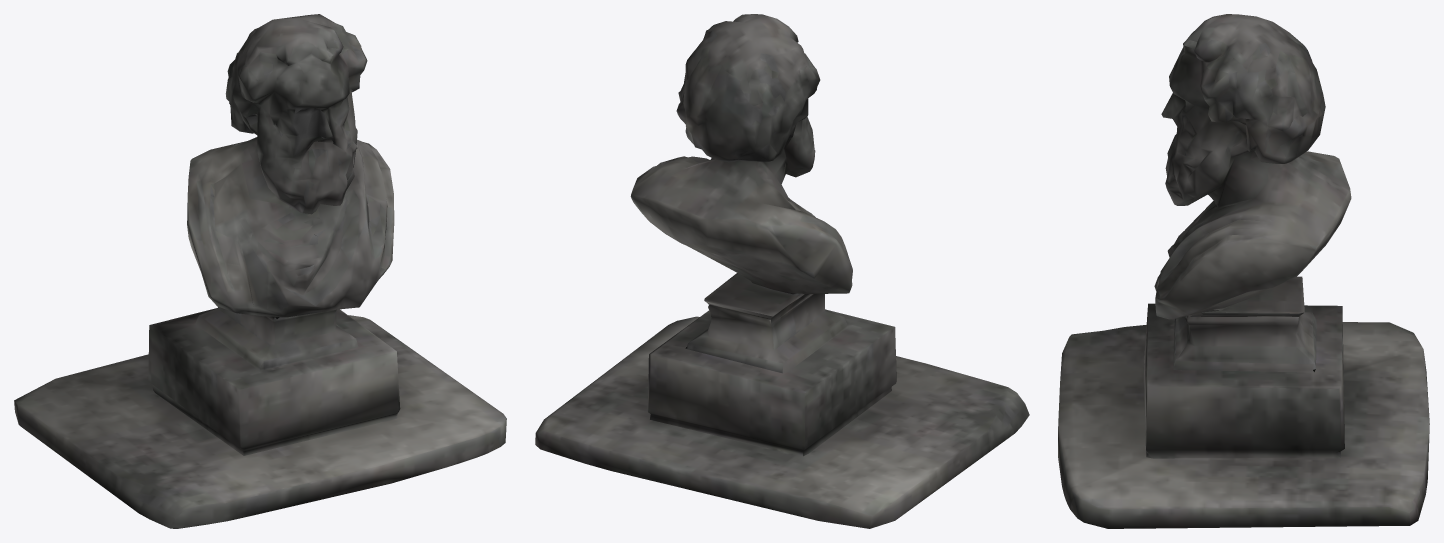
The model's file is old-granite-bust-v001.glb.
The picture shows the model from 3 angles, left to right: view 1: azimuth 30°, elevation 25°; view 2: azimuth 150°, elevation 25°; view 3: azimuth 270°, elevation 25°; orthographic projection. The views are drawn at different scales.
Visible parts, largest first — view 1: old-granite-bust; view 2: old-granite-bust; view 3: old-granite-bust.
Boxes of the visible parts, x1,y1,x2,y2 form: old-granite-bust: (14,14,506,528); old-granite-bust: (535,14,1029,528); old-granite-bust: (1058,14,1429,528).
Bounding box in the file's own units: 0.65 × 0.6996 × 0.5439.
Materials: 1 (1 with a texture image).
